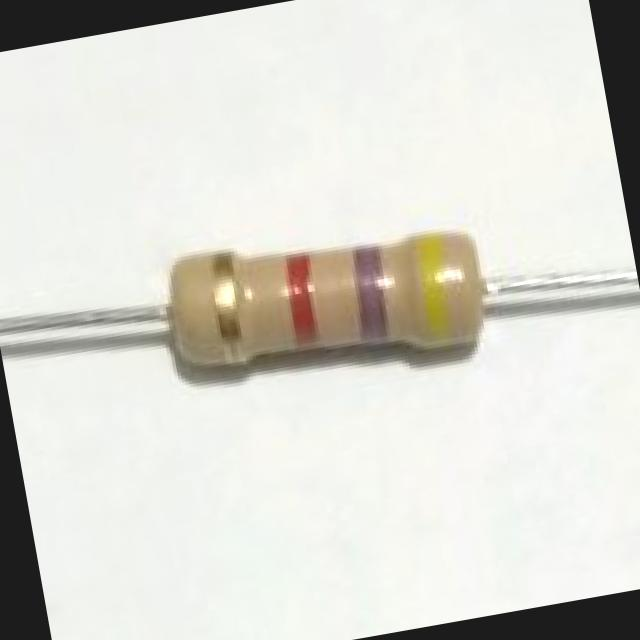Resistor: (168, 232, 481, 364)
gold: (214, 250, 246, 370)
purple: (356, 244, 392, 354)
red: (286, 250, 321, 363)
yellow: (419, 235, 457, 359)
